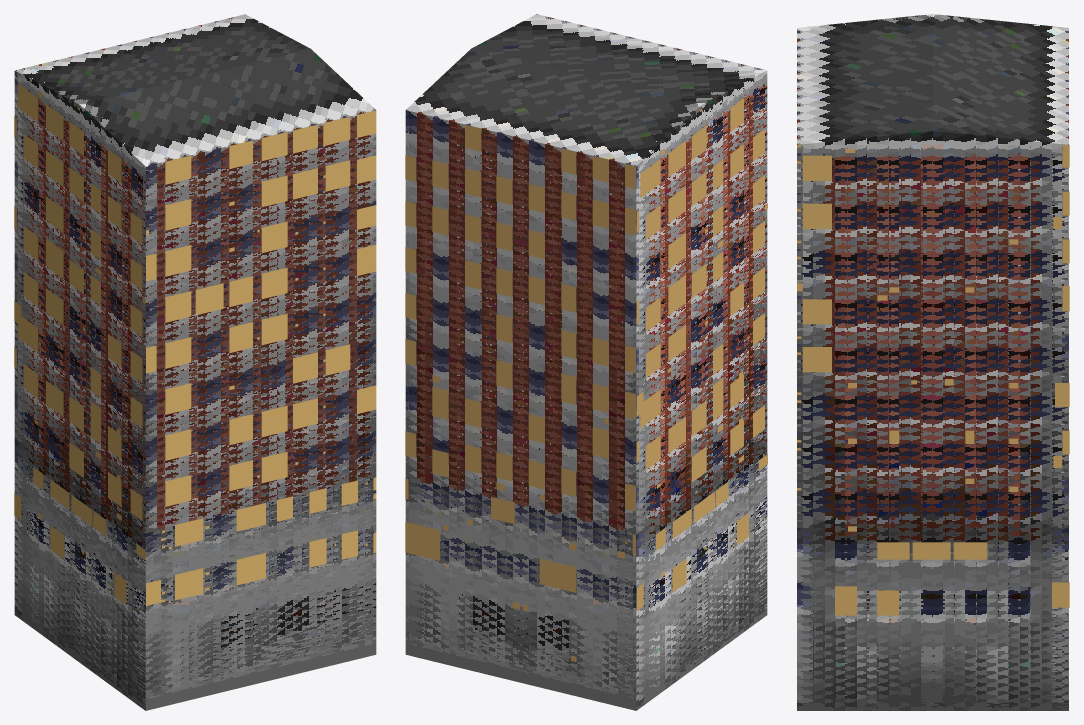
Rendered from dum_1c_vysoky_2.glb.
3 views of the same model, side by side, from view 1: azimuth 30°, elevation 25°; view 2: azimuth 150°, elevation 25°; view 3: azimuth 270°, elevation 25° (orthographic). The views are drawn at different scales.
Visible parts, largest first — view 1: object 1, noc; view 2: object 1, noc; view 3: object 1, noc.
Part boxes in pixels (box(x1,y1,x2,y2)): object 1: box(14, 14, 376, 710); noc: box(14, 84, 376, 611); object 1: box(405, 14, 767, 710); noc: box(405, 98, 767, 661); object 1: box(797, 14, 1068, 710); noc: box(797, 145, 1069, 615).
Bounding box in the file's own units: 11.84 × 27.28 × 11.65.
Materials: 1 (1 with a texture image).
